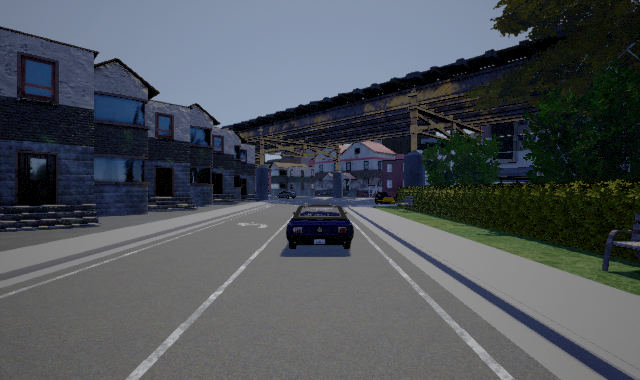vehicle: (286, 204, 354, 249)
